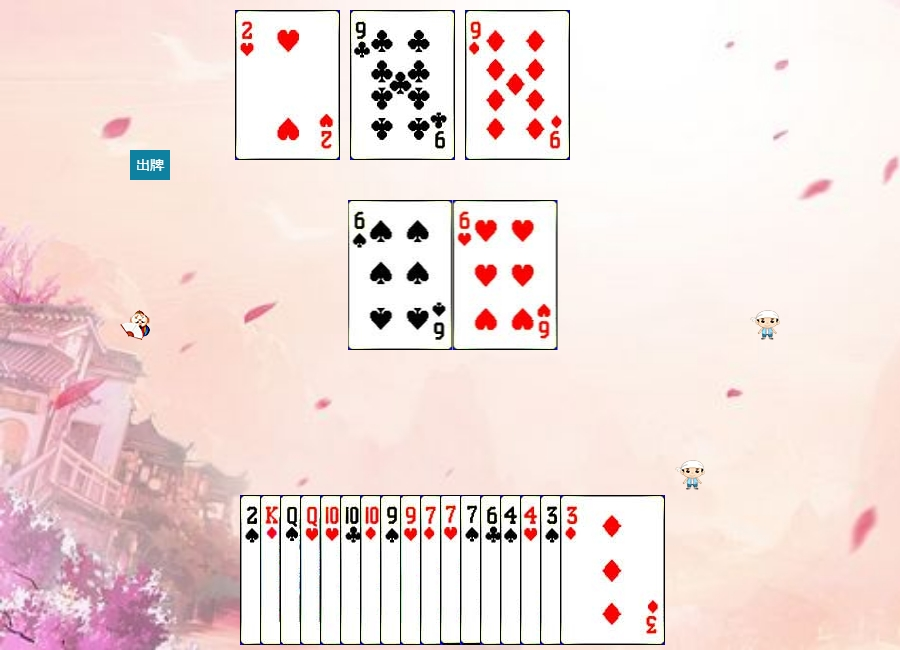10~1: (360, 495, 465, 645)
10~2: (340, 495, 445, 645)
10~3: (320, 495, 425, 645)
12~3: (300, 495, 405, 645)
12~4: (280, 495, 385, 645)
13~1: (260, 495, 365, 645)
15~3: (235, 10, 340, 160)
15~4: (240, 495, 345, 645)
3~1: (560, 495, 665, 645)
3~4: (540, 495, 645, 645)
4~3: (520, 495, 625, 645)
4~4: (500, 495, 605, 645)
6~2: (480, 495, 585, 645)
6~3: (453, 200, 558, 350)
6~4: (348, 200, 453, 350)
7~1: (420, 495, 525, 645)
7~3: (440, 495, 545, 645)
7~4: (460, 495, 565, 645)
9~1: (465, 10, 570, 160)
9~2: (350, 10, 455, 160)
9~3: (400, 495, 505, 645)
9~4: (380, 495, 485, 645)
